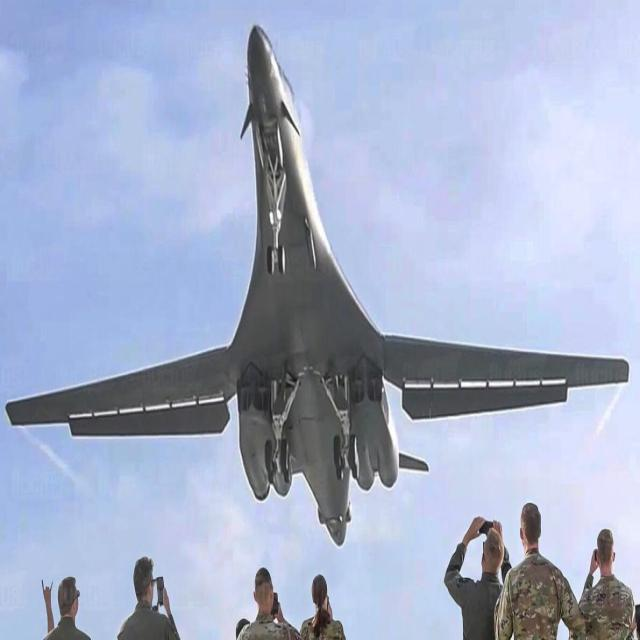B1: (4, 11, 634, 555)
